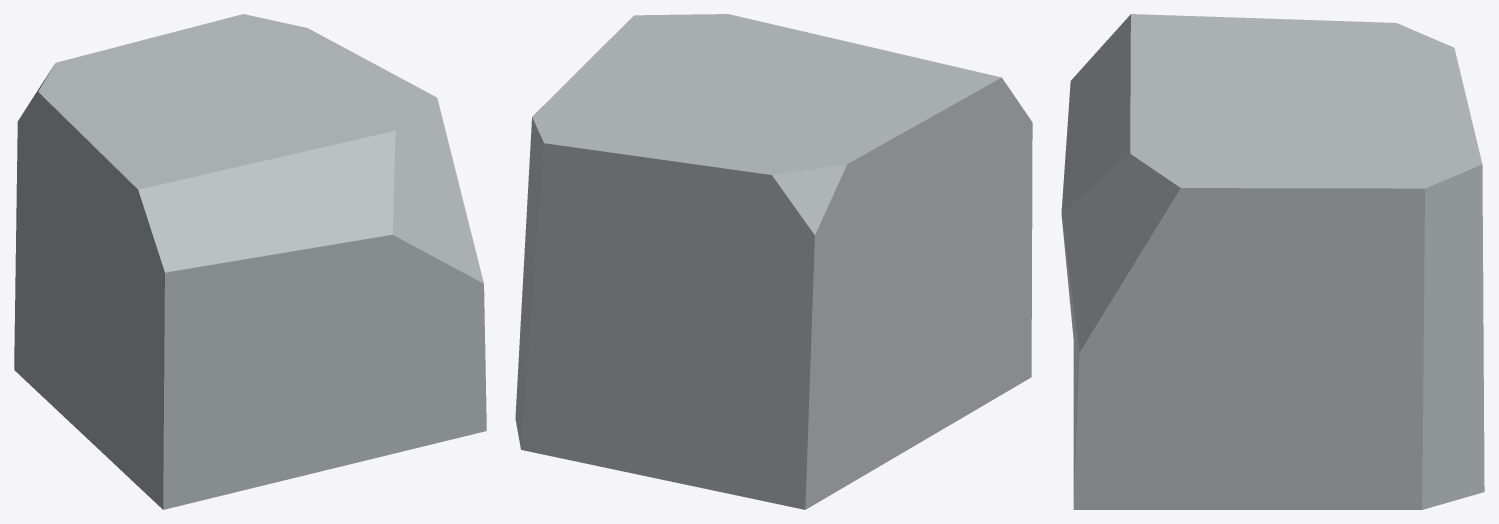
The model's file is maya_export_StoneWall1.fbx.
3 views of the same model, side by side, from view 1: azimuth 30°, elevation 25°; view 2: azimuth 150°, elevation 25°; view 3: azimuth 270°, elevation 25° (orthographic). The views are drawn at different scales.
Visible parts, largest first — view 1: StoneWall1; view 2: StoneWall1; view 3: StoneWall1.
Boxes of the visible parts, bbox=[...] form: StoneWall1: bbox=[14, 14, 486, 509]; StoneWall1: bbox=[515, 14, 1032, 509]; StoneWall1: bbox=[1061, 14, 1484, 509].
Bounding box in the file's own units: 10.17 × 9.1 × 10.62.
Materials: 1 (1 with a texture image).
